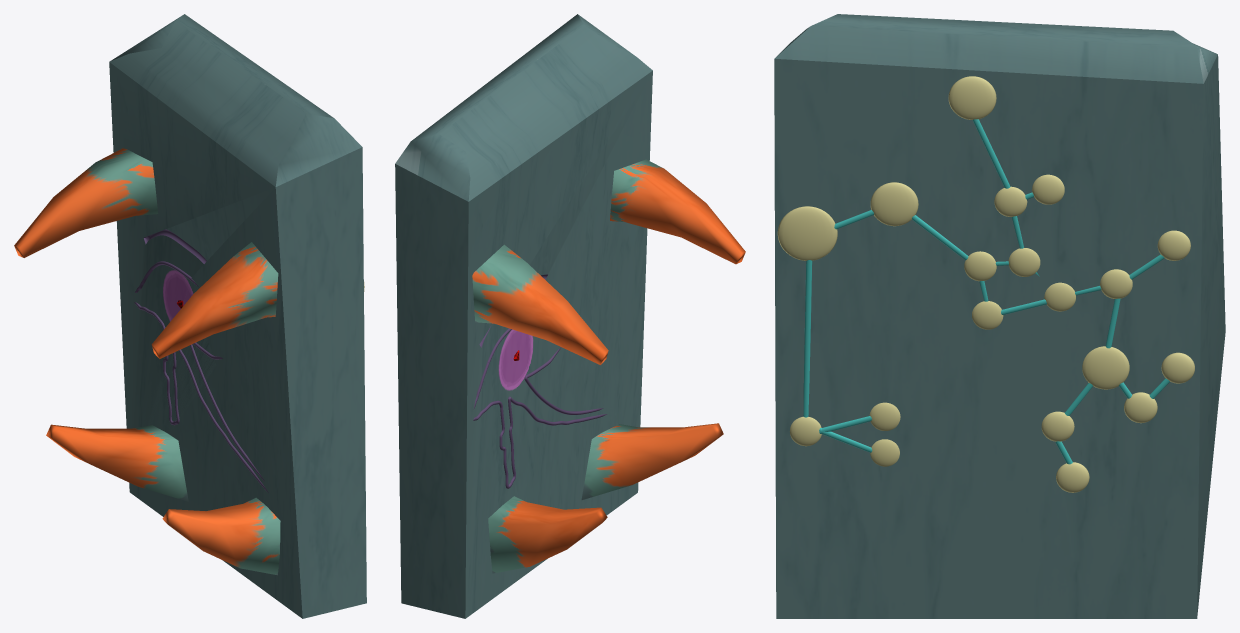
3 views of the same model, side by side, from view 1: azimuth 30°, elevation 25°; view 2: azimuth 150°, elevation 25°; view 3: azimuth 270°, elevation 25° (orthographic). The views are drawn at different scales.
Visible parts, largest first — view 1: Tablet; view 2: Tablet; view 3: Tablet.
Boxes of the visible parts, <box> form: Tablet: <box>14,14,366,618</box>; Tablet: <box>395,14,745,618</box>; Tablet: <box>774,14,1225,618</box>.
Size of the model in its own units: 461 by 1072 by 751.
